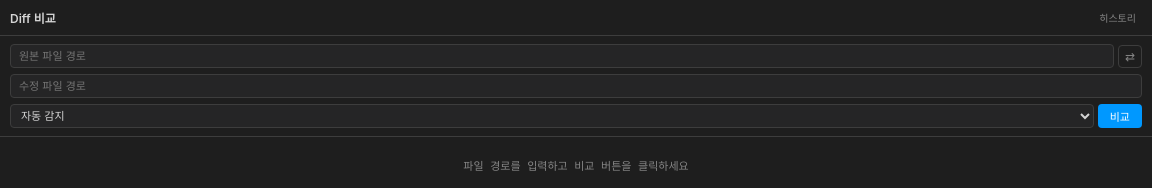
Test: DiffPanel › 경로 미입력 시 비교 버튼 클릭하면 에러 메시지가 표시된다
Click the button "비교" at (1120, 116), box [1098,104,1142,128]
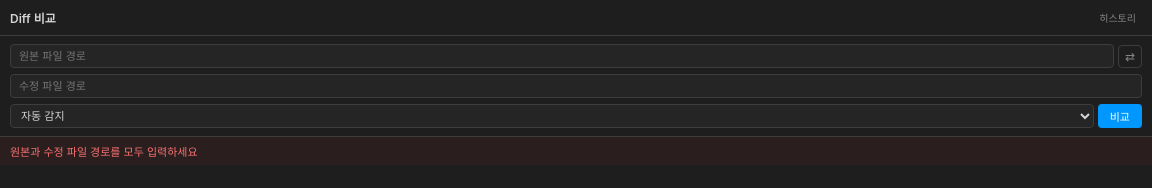
Now the text "원본과 수정 파일 경로를 모두 입력하세요" is shown, box [0,137,1151,165]
